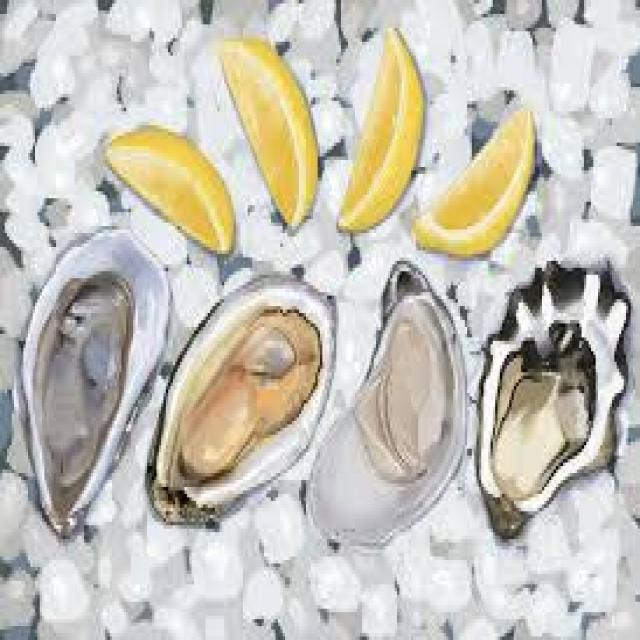lemon: (332, 28, 425, 236), (418, 106, 538, 257), (222, 35, 316, 217), (107, 129, 236, 247)
oysters: (13, 235, 150, 519), (158, 285, 332, 507), (480, 276, 622, 520), (324, 288, 454, 546)
